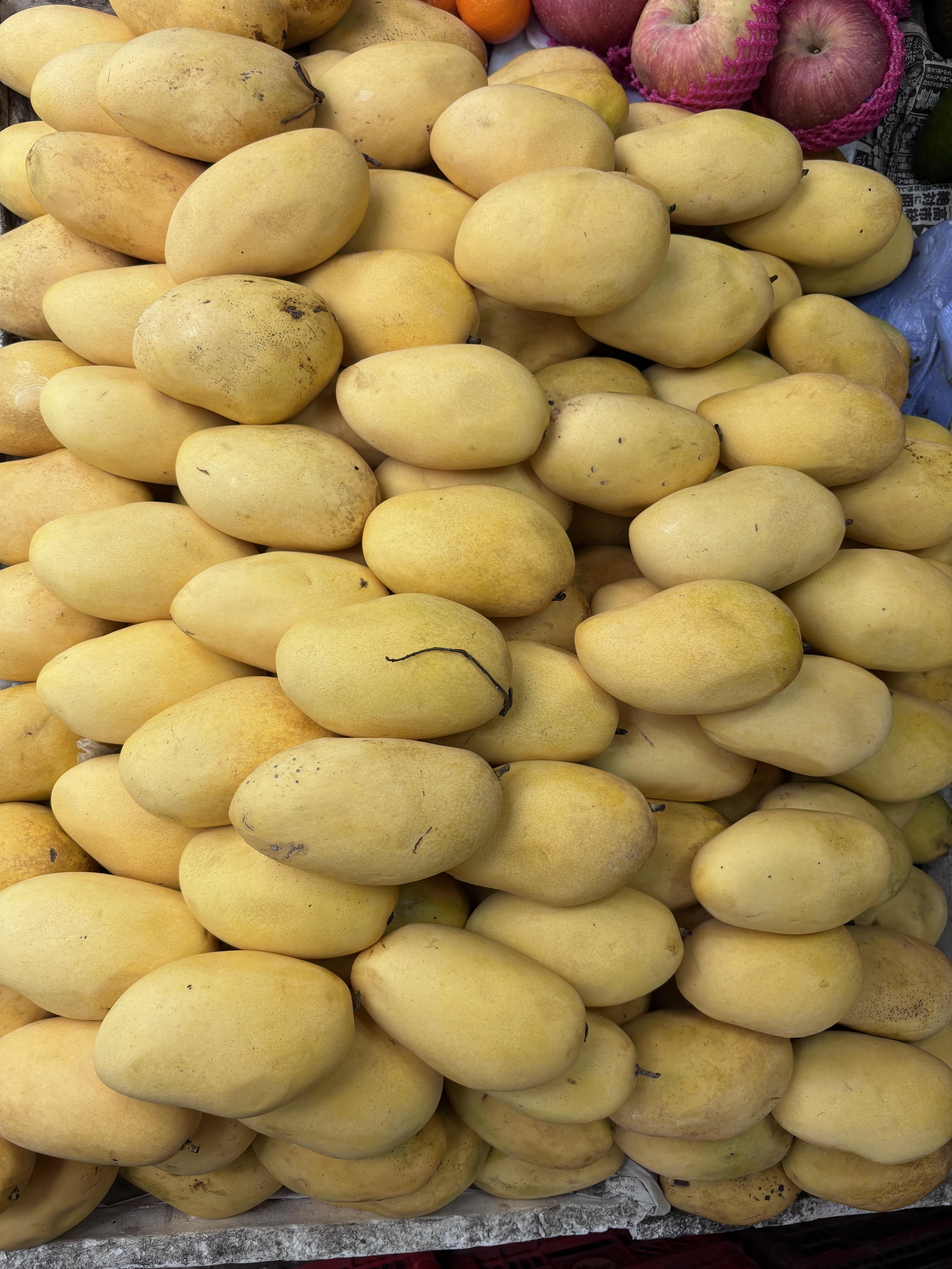mango: (94, 951, 354, 1119), (229, 737, 502, 887), (352, 923, 585, 1092), (276, 594, 512, 739), (455, 167, 670, 317), (166, 128, 370, 283), (133, 275, 343, 425), (576, 580, 803, 715), (336, 344, 549, 470), (176, 424, 380, 551), (691, 809, 891, 935)
occluded: (119, 676, 335, 829), (0, 873, 218, 1020), (241, 1005, 443, 1160), (452, 760, 657, 907), (0, 1017, 200, 1167), (96, 28, 319, 162), (180, 827, 398, 960), (362, 485, 575, 619), (30, 502, 257, 623), (37, 620, 259, 743), (629, 466, 844, 591), (170, 551, 388, 671), (467, 887, 683, 1007), (579, 235, 772, 368), (611, 1008, 792, 1141), (697, 372, 905, 487), (697, 655, 893, 777), (773, 1031, 952, 1164), (530, 392, 719, 516), (26, 132, 204, 262), (39, 365, 227, 485), (438, 641, 618, 766), (675, 919, 863, 1038), (314, 41, 487, 170), (615, 109, 803, 225), (293, 249, 479, 366), (780, 549, 952, 671), (430, 85, 615, 197), (51, 754, 199, 889), (759, 780, 912, 906), (725, 160, 902, 268), (253, 1113, 448, 1204), (0, 449, 152, 565), (338, 1103, 489, 1219), (585, 703, 755, 802), (0, 214, 132, 339), (492, 1012, 636, 1124), (767, 294, 908, 406), (444, 1081, 612, 1169), (375, 457, 572, 530), (0, 563, 119, 682), (42, 264, 175, 368), (833, 436, 952, 551), (832, 692, 952, 802), (839, 926, 952, 1042), (339, 170, 475, 263), (0, 4, 134, 97), (782, 1138, 952, 1211), (310, 0, 488, 68), (615, 1115, 792, 1181), (121, 1147, 280, 1219), (0, 1155, 118, 1252), (628, 800, 729, 910), (0, 340, 91, 457), (474, 289, 596, 374), (794, 214, 915, 297), (0, 684, 80, 802), (287, 375, 386, 469), (31, 42, 127, 136), (643, 349, 788, 410), (659, 1164, 800, 1226), (110, 0, 288, 48), (0, 802, 97, 890), (474, 1145, 624, 1199), (515, 66, 628, 136), (853, 867, 947, 944), (535, 357, 655, 412), (495, 585, 590, 653), (155, 1114, 257, 1177), (742, 250, 802, 355), (0, 121, 54, 221), (489, 46, 612, 84), (388, 873, 470, 929), (903, 793, 952, 864), (281, 0, 351, 47), (617, 102, 693, 139), (0, 1137, 36, 1213), (0, 986, 52, 1037), (591, 577, 660, 615), (871, 317, 911, 371), (592, 993, 651, 1027), (913, 1022, 952, 1069), (300, 50, 349, 86), (904, 415, 952, 449), (868, 798, 918, 830)
